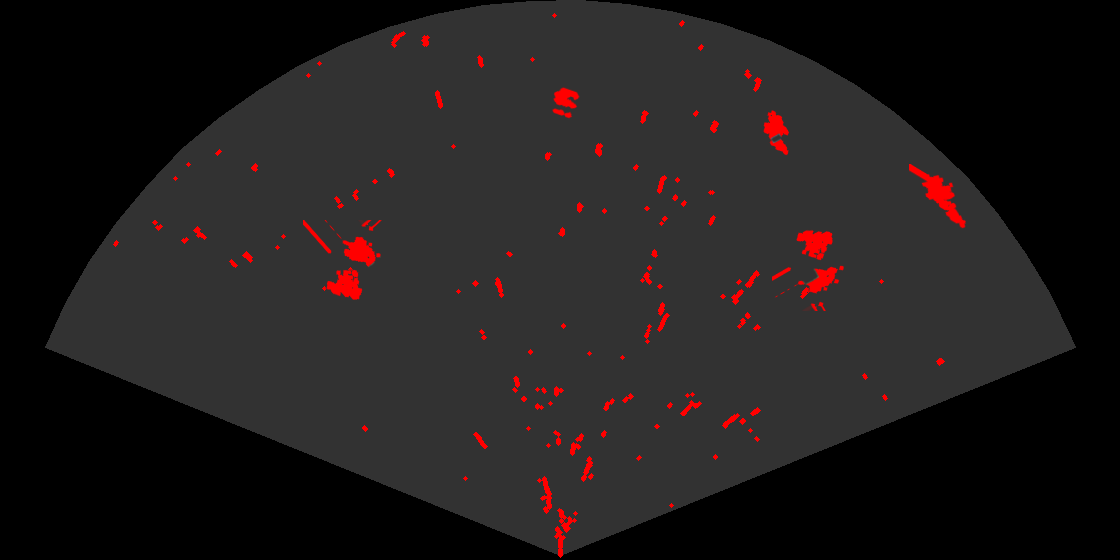AUV: (762, 109, 791, 157)
ball: (551, 85, 581, 120)
cage: (303, 220, 383, 301), (772, 228, 845, 311)
frogman: (909, 164, 968, 230)
